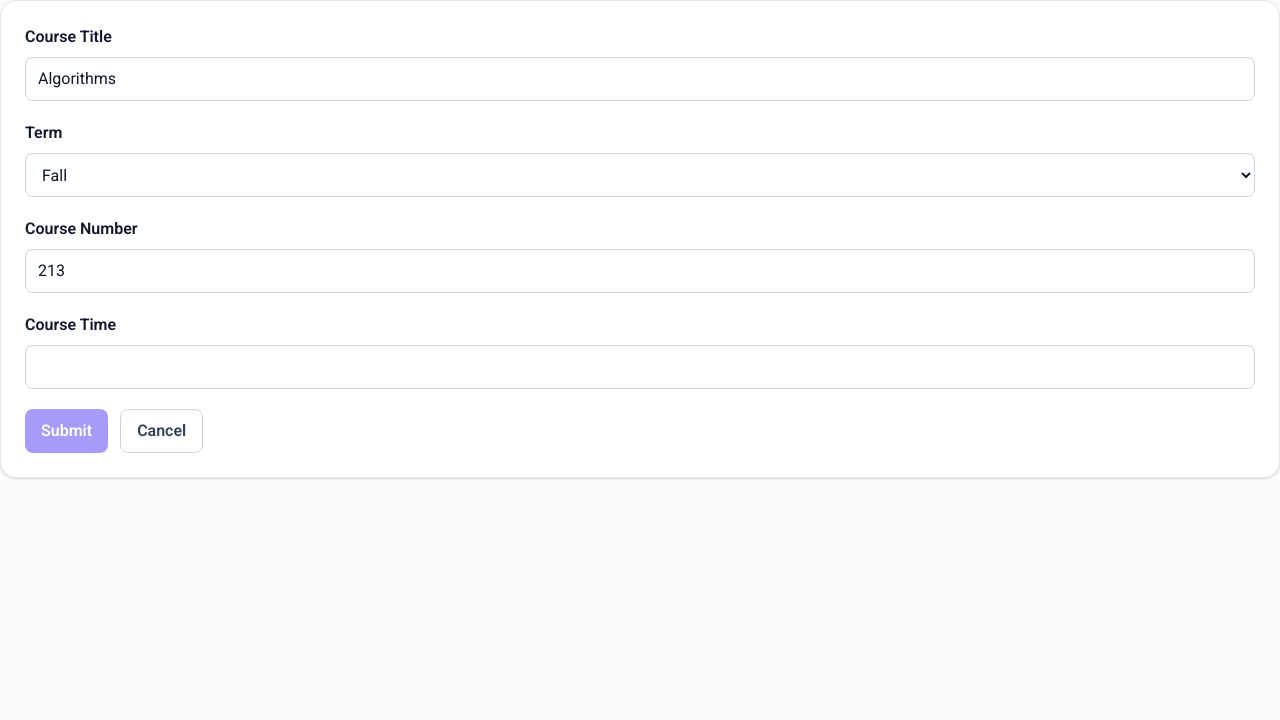
Scenario: CoursesForm › does not save invalid changes
Step 1. Replace the text in the field labelled "Course Title" with "A" → {"x": 640, "y": 79}, box [25,57,1255,101]
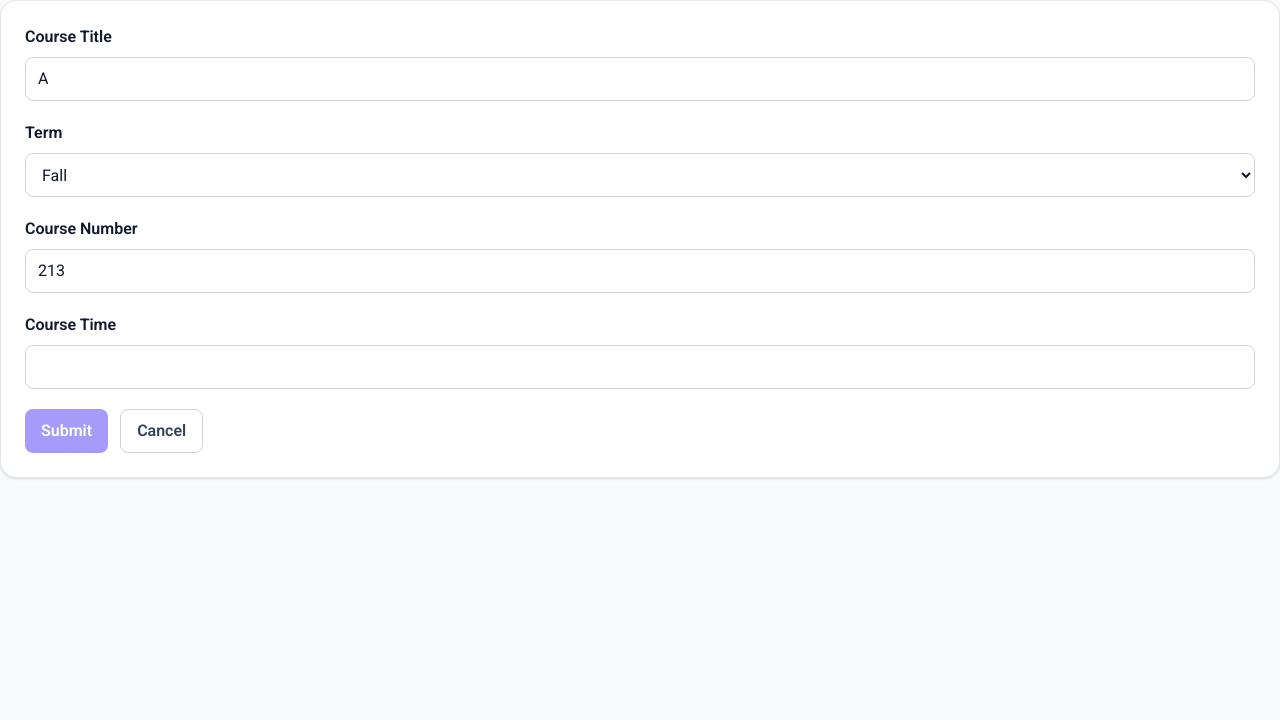
Step 2. Click the button "Submit" → {"x": 67, "y": 431}, box [25,409,108,453]
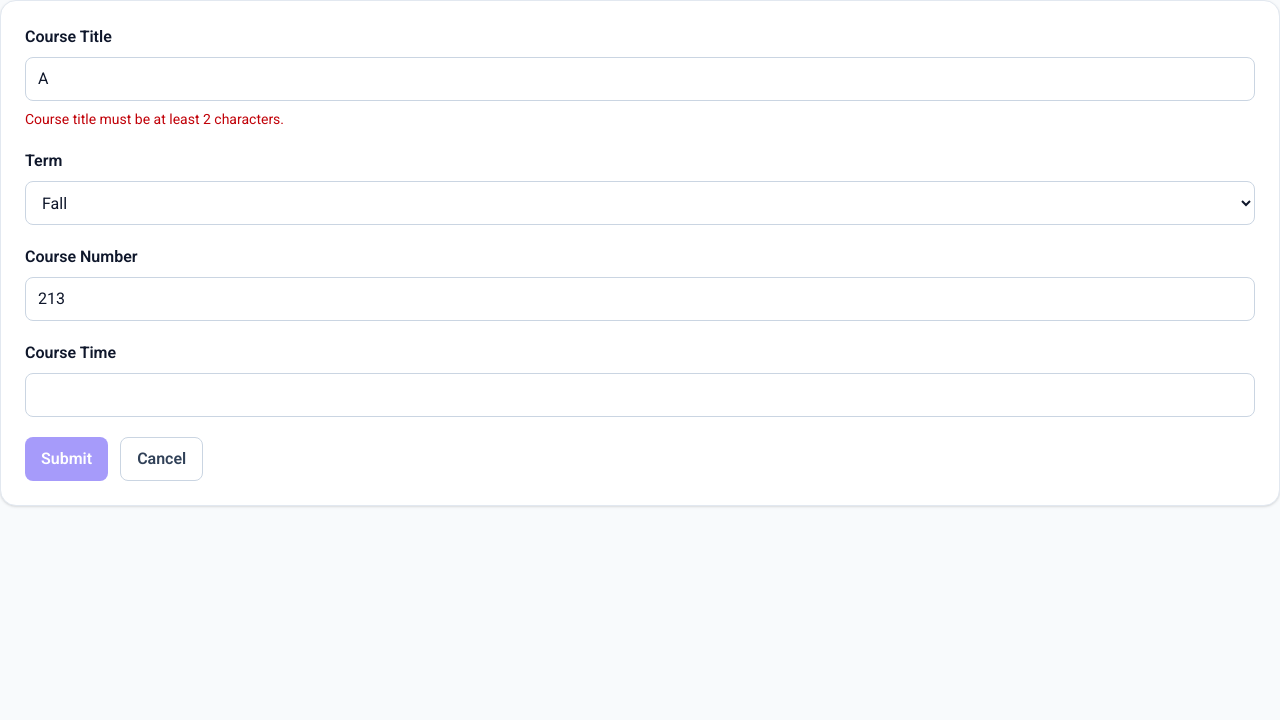
Expected: the text "Course title must be at least 2 characters." is shown, [25,111,284,127]
